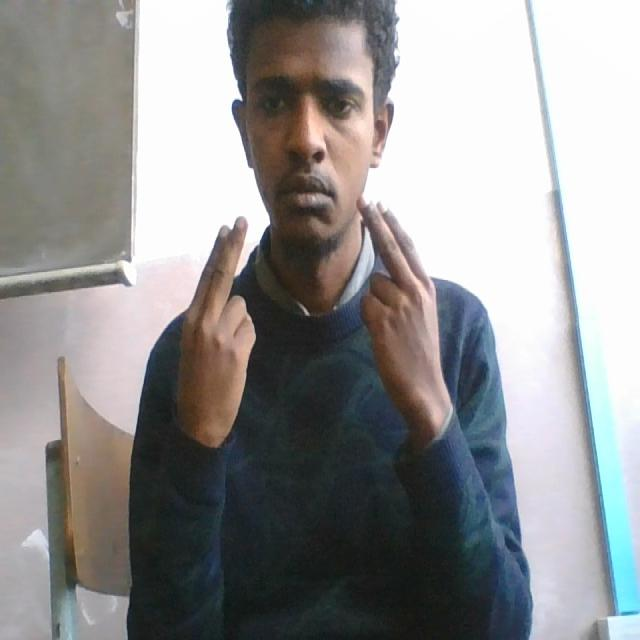zena: (172, 185, 448, 421)
